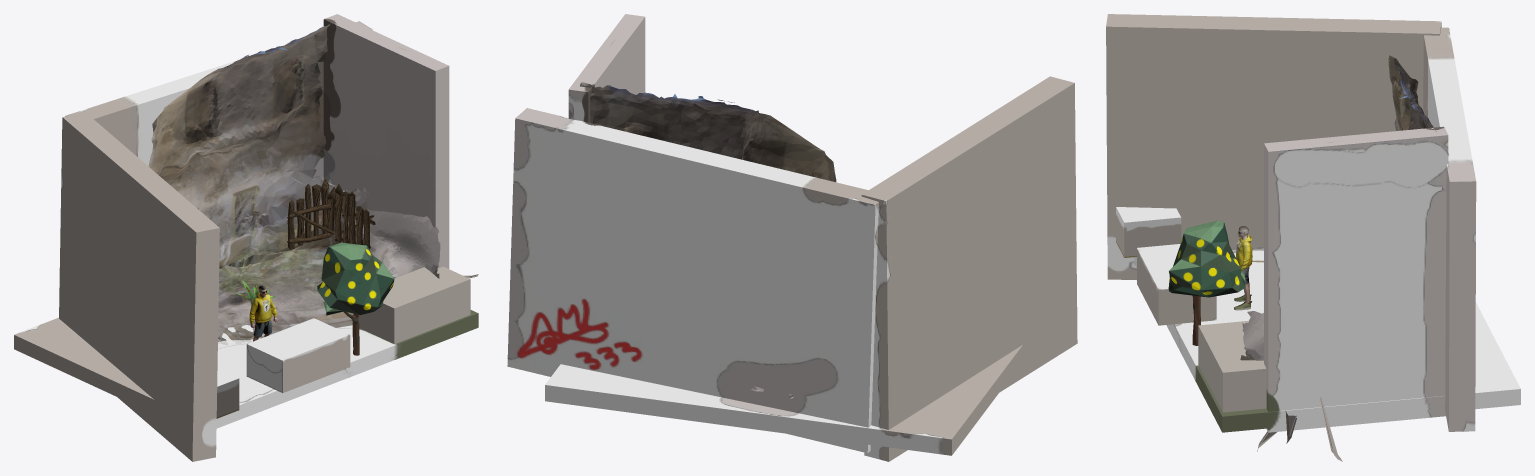
File: AML333 EN EL JARDIN 3D.glb
The picture shows the model from 3 angles, left to right: view 1: azimuth 30°, elevation 25°; view 2: azimuth 150°, elevation 25°; view 3: azimuth 270°, elevation 25°; orthographic projection. The views are drawn at different scales.
Visible parts, largest first — view 1: node_id101, node_id113, node_id109, node_id117, node_id87, node_id96, node_id120, node_id105, node_id126, node_id130, node_id29, node_id93; view 2: node_id105, node_id113, node_id117, node_id101, node_id109; view 3: node_id113, node_id109, node_id105, node_id117, node_id120, node_id96, node_id87, node_id101, node_id93, node_id29.
Part boxes in pixels (x1,y1,x2,y2): node_id101: [148, 17, 478, 346]; node_id113: [59, 112, 219, 461]; node_id109: [323, 14, 449, 268]; node_id117: [14, 310, 478, 428]; node_id87: [246, 318, 350, 392]; node_id96: [359, 266, 470, 344]; node_id120: [317, 242, 394, 355]; node_id105: [65, 21, 372, 180]; node_id126: [287, 178, 335, 250]; node_id130: [327, 184, 375, 249]; node_id29: [249, 285, 277, 341]; node_id93: [216, 368, 239, 418]; node_id105: [507, 108, 878, 453]; node_id113: [861, 76, 1077, 461]; node_id117: [545, 345, 1023, 455]; node_id101: [580, 81, 836, 398]; node_id109: [568, 14, 645, 122]; node_id113: [1106, 14, 1441, 279]; node_id109: [1264, 126, 1448, 432]; node_id105: [1423, 27, 1476, 431]; node_id117: [1134, 250, 1520, 432]; node_id120: [1168, 220, 1245, 345]; node_id96: [1198, 321, 1266, 412]; node_id87: [1137, 244, 1216, 325]; node_id101: [1240, 55, 1436, 461]; node_id93: [1116, 207, 1181, 257]; node_id29: [1234, 226, 1252, 310].
Size of the model in its own units: 3.24 by 1.98 by 2.47.
16 materials, 16 textured.
